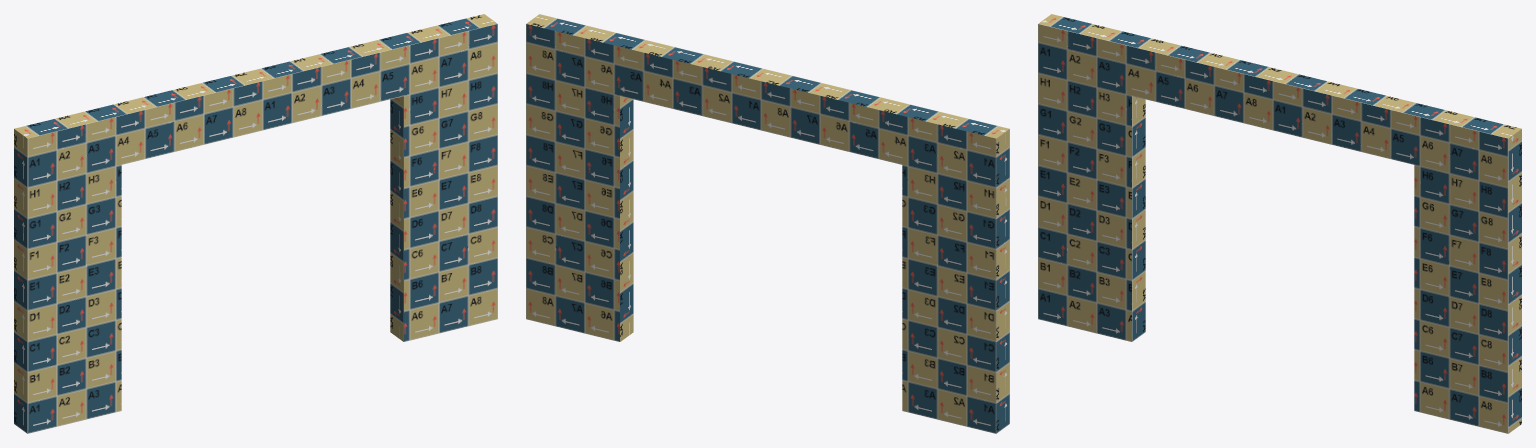
The model's file is DOORWAY_Wide.fbx.
The picture shows the model from 3 angles, left to right: view 1: azimuth 30°, elevation 25°; view 2: azimuth 150°, elevation 25°; view 3: azimuth 330°, elevation 25°; orthographic projection.
Parts seen in each view (by area): view 1: DOORWAY_Wide; view 2: DOORWAY_Wide; view 3: DOORWAY_Wide.
Part boxes in pixels (bbox=[...]): DOORWAY_Wide: bbox=[14, 14, 497, 433]; DOORWAY_Wide: bbox=[526, 14, 1009, 433]; DOORWAY_Wide: bbox=[1038, 14, 1521, 433].
Size of the model in its own units: 400 by 240 by 20.
1 material, 1 textured.
